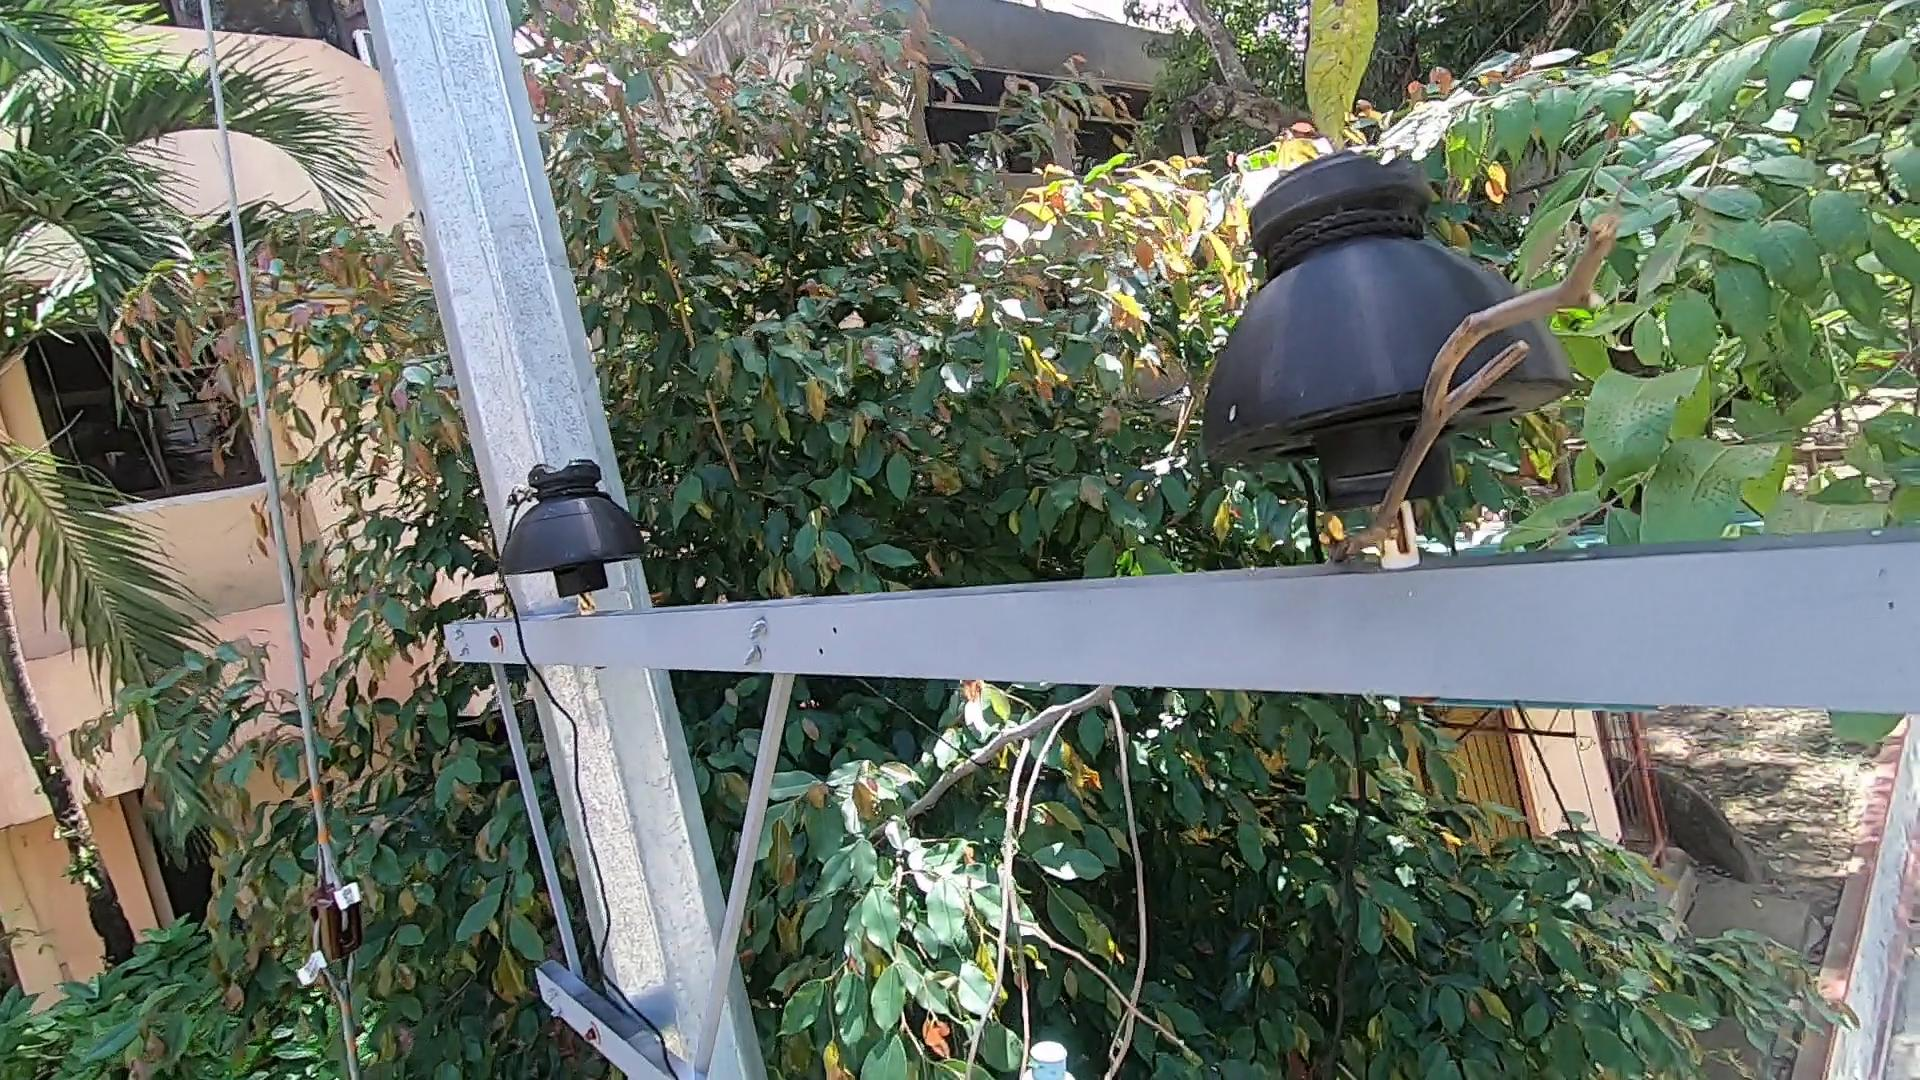tree branch: (832, 680, 1213, 1077), (1313, 193, 1677, 559)
